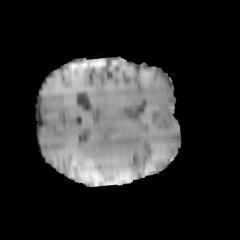glioma: (75, 127, 145, 173)
